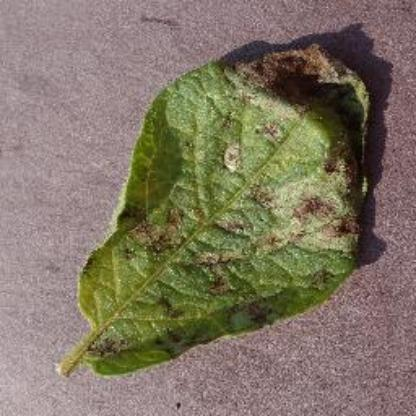Late-Blight: (48, 35, 376, 380)
